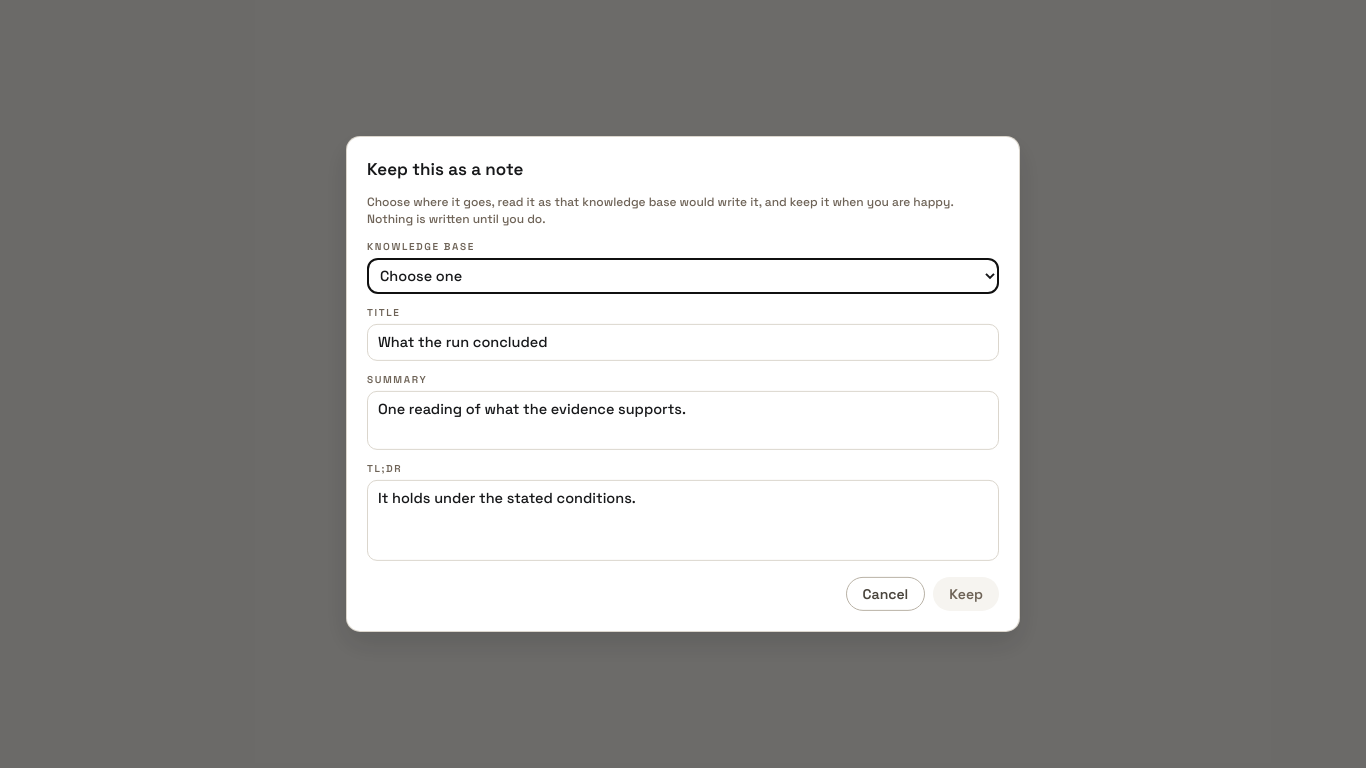
SaveArtifactNote › sends back exactly what the destination rendered, digests and all
Select "notebook" in the dropdown labelled "Knowledge base" at [683, 276], box [367, 258, 999, 294]
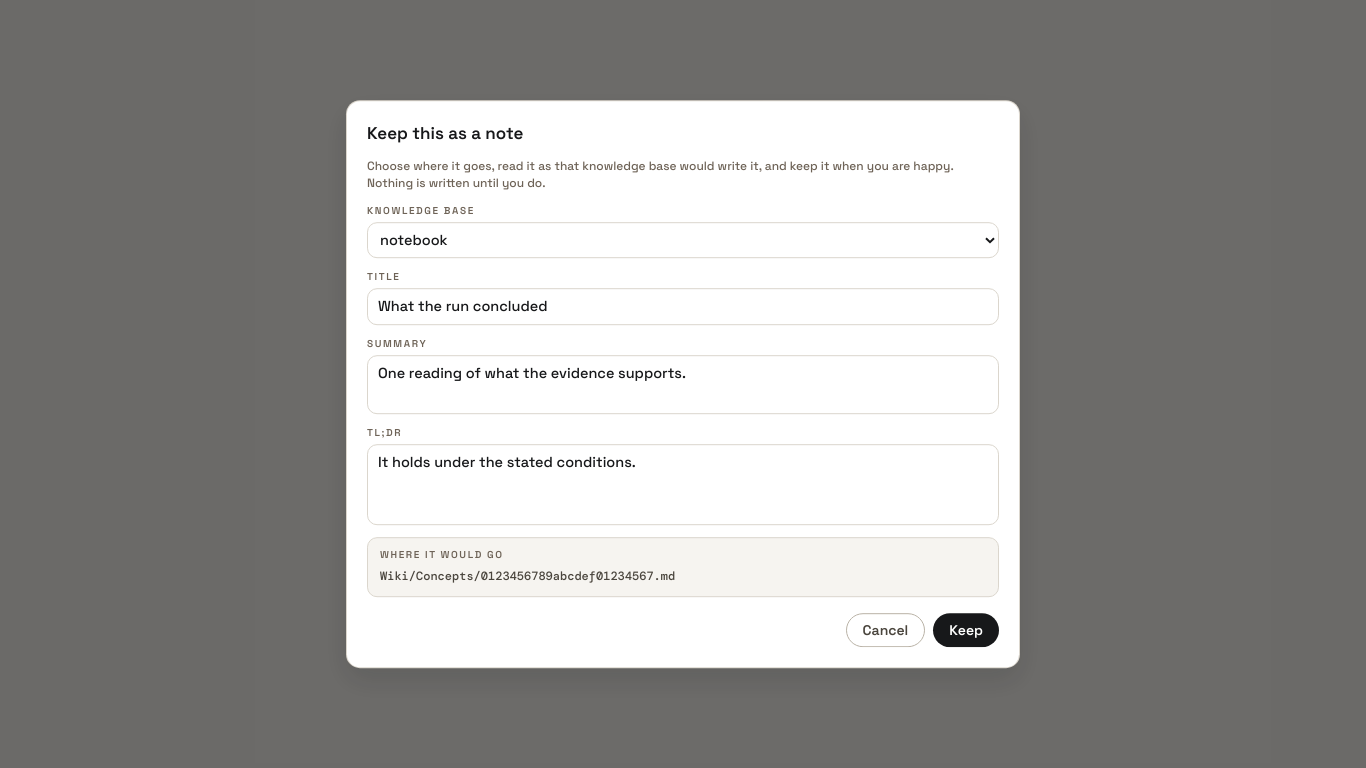
Expected: the text "Wiki/Concepts/0123456789abcdef01234567.md" is shown, [380, 568, 675, 584]
Click the button "Keep".
click(966, 630)  # box [933, 613, 999, 647]
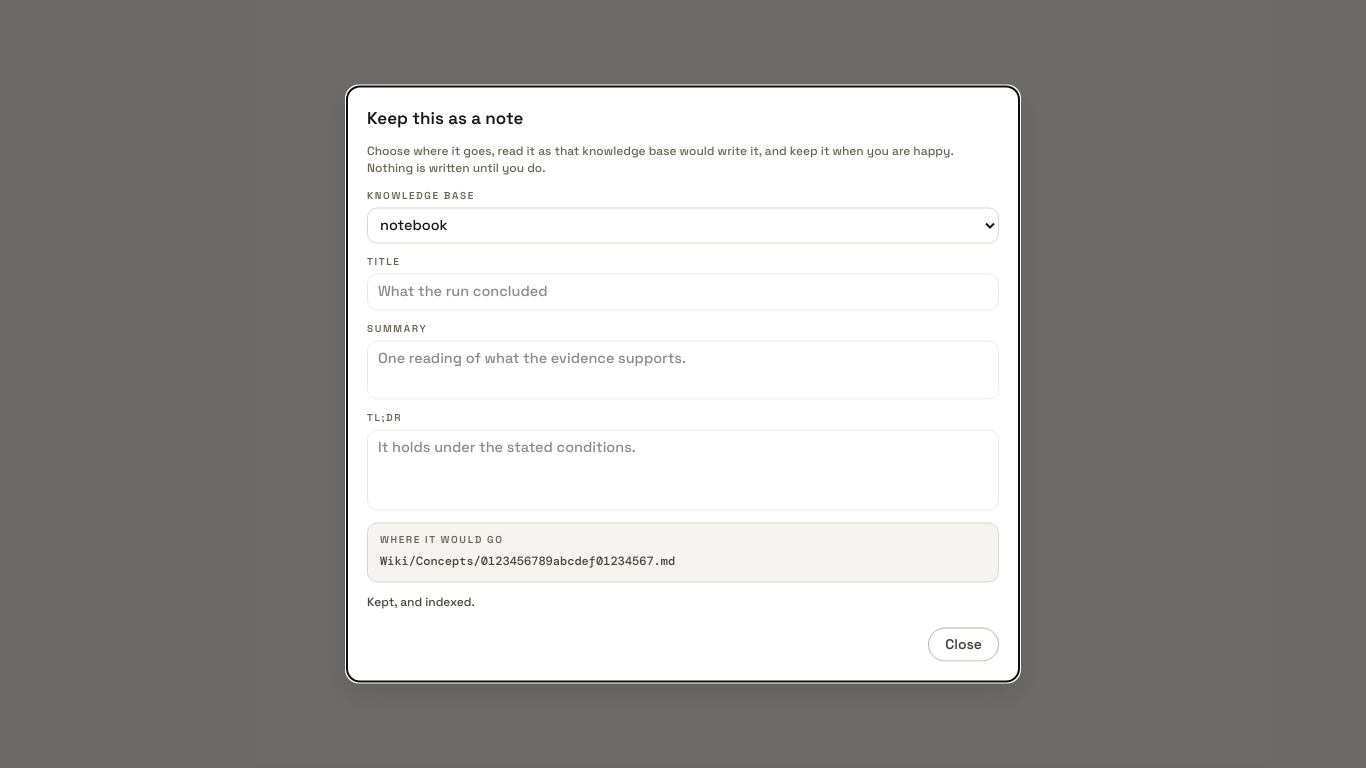
Expected: the message reads "Kept, and indexed.", [367, 594, 475, 610]
